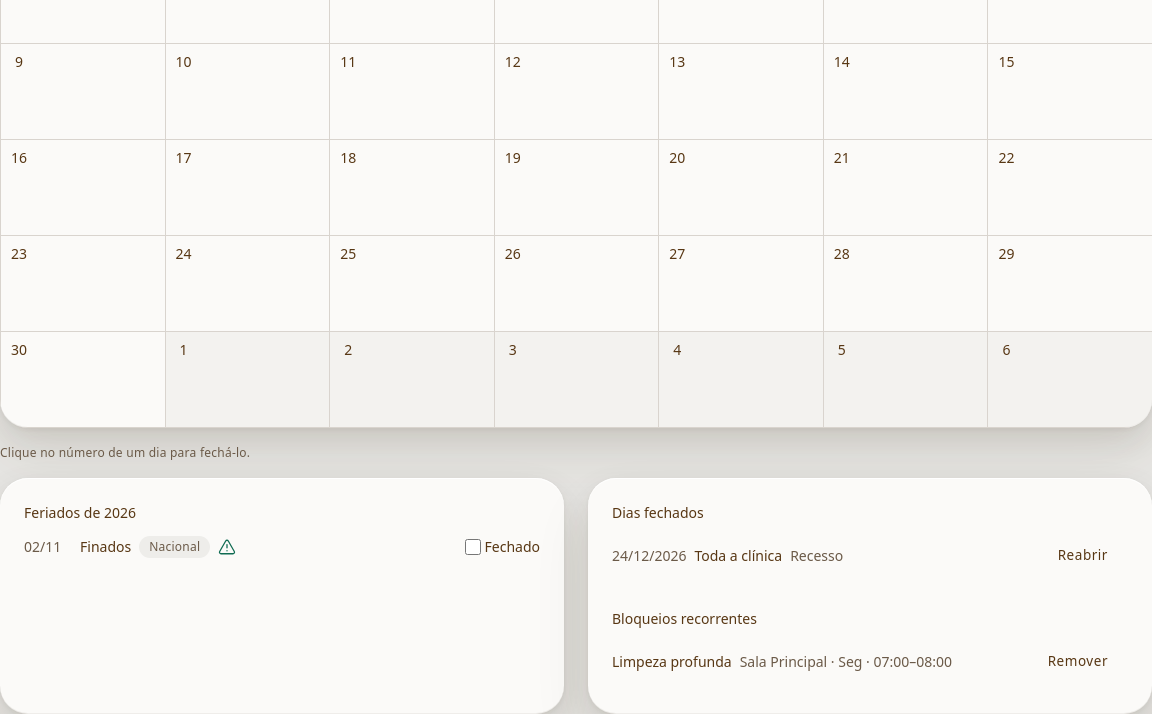
it: ExceptionsMonth (NUC-52) › closes a holiday and opens the affected list on a 409
(page scrolled)
Step 1. Click the checkbox named "Finados: Fechado" → (472, 547), box [464,539,480,555]
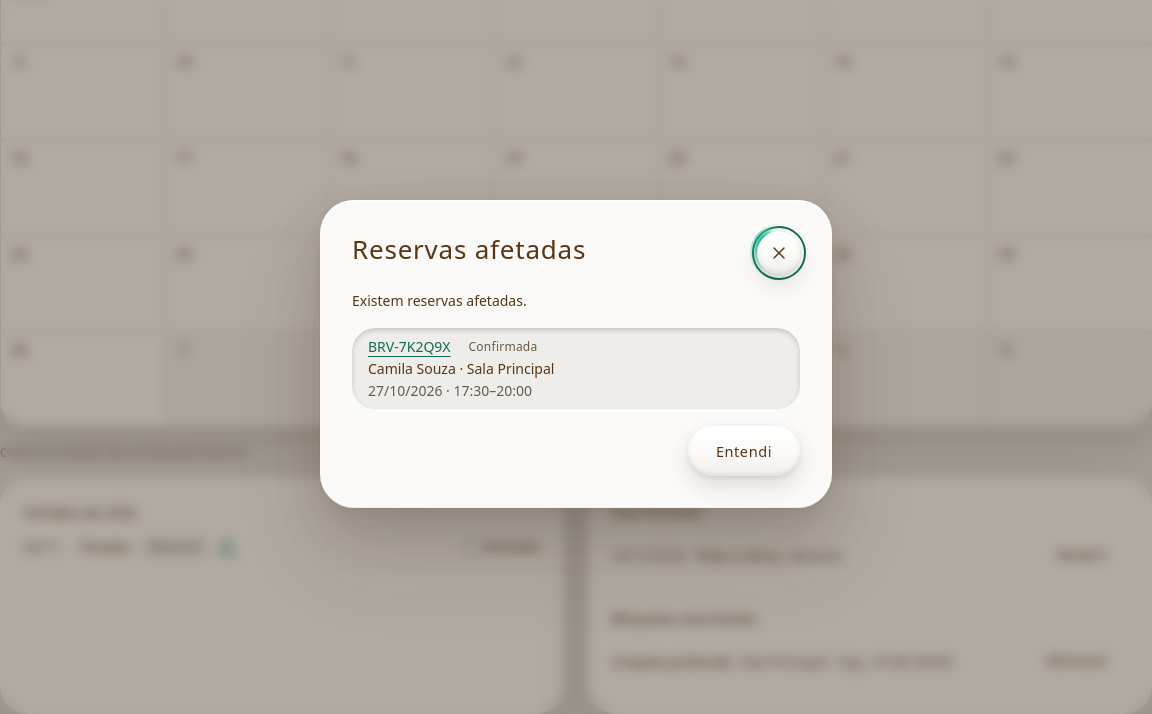
Expected: the link "BRV-7K2Q9X" is shown, [368,336,450,358]
